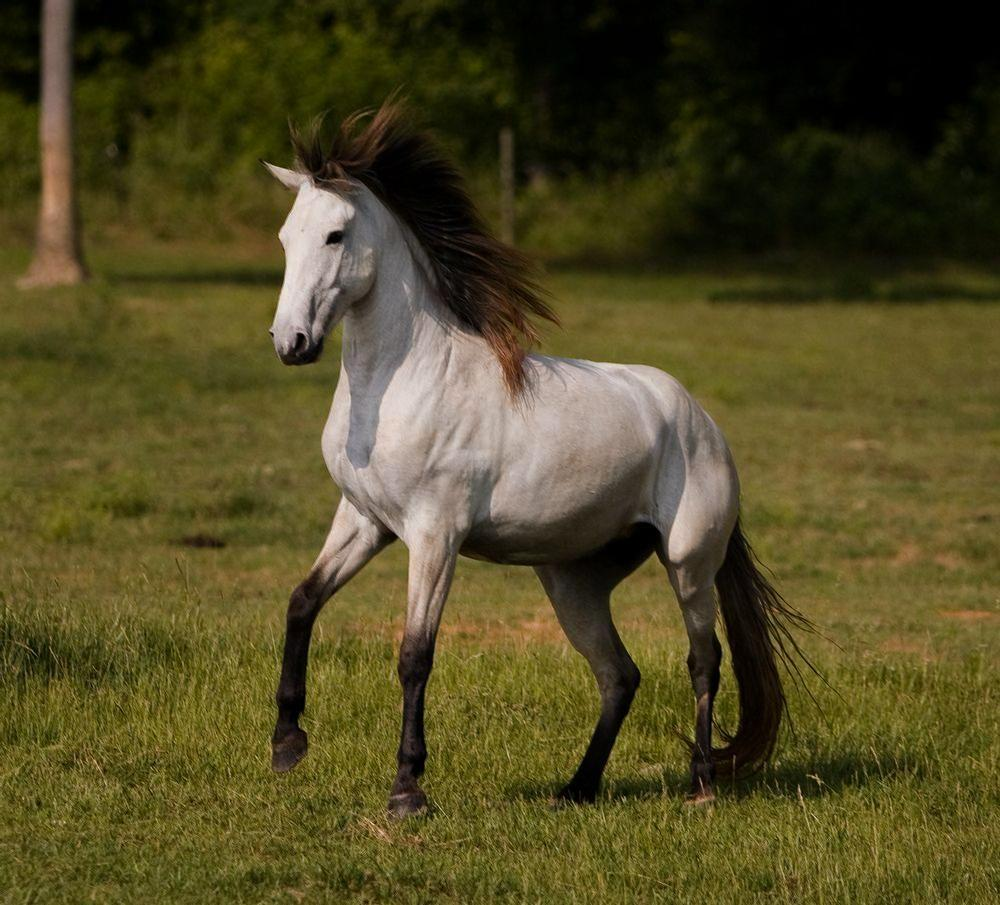horse: (234, 69, 840, 836)
